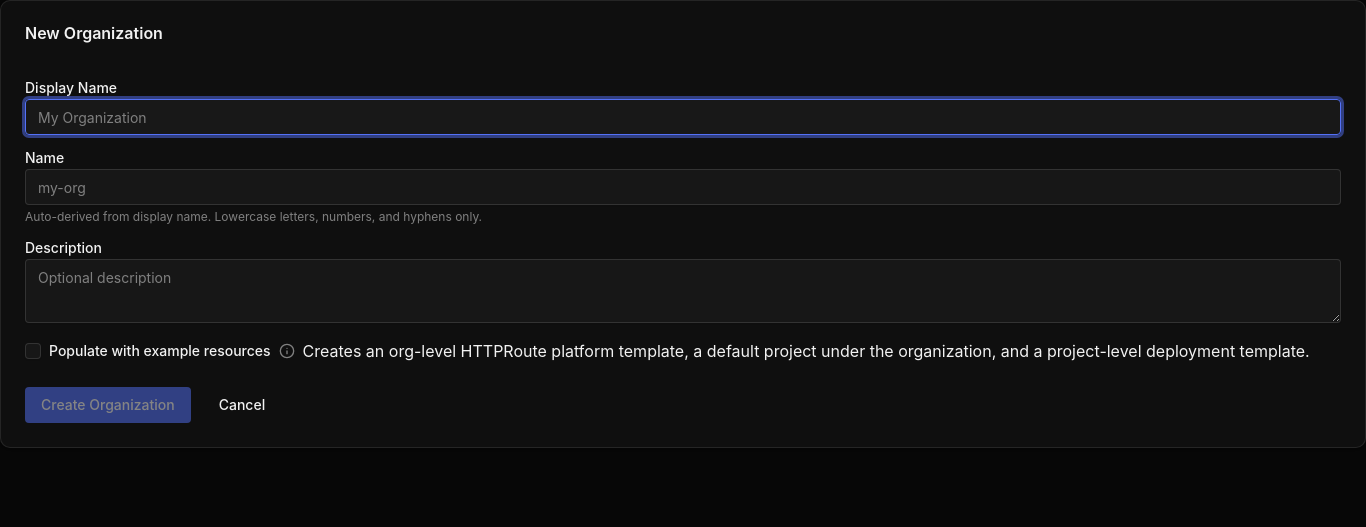
OrganizationNewPage › shows error message when creation fails
Type "My Org" into the field labelled "Display Name" at [683, 117], box [25,99,1341,135]
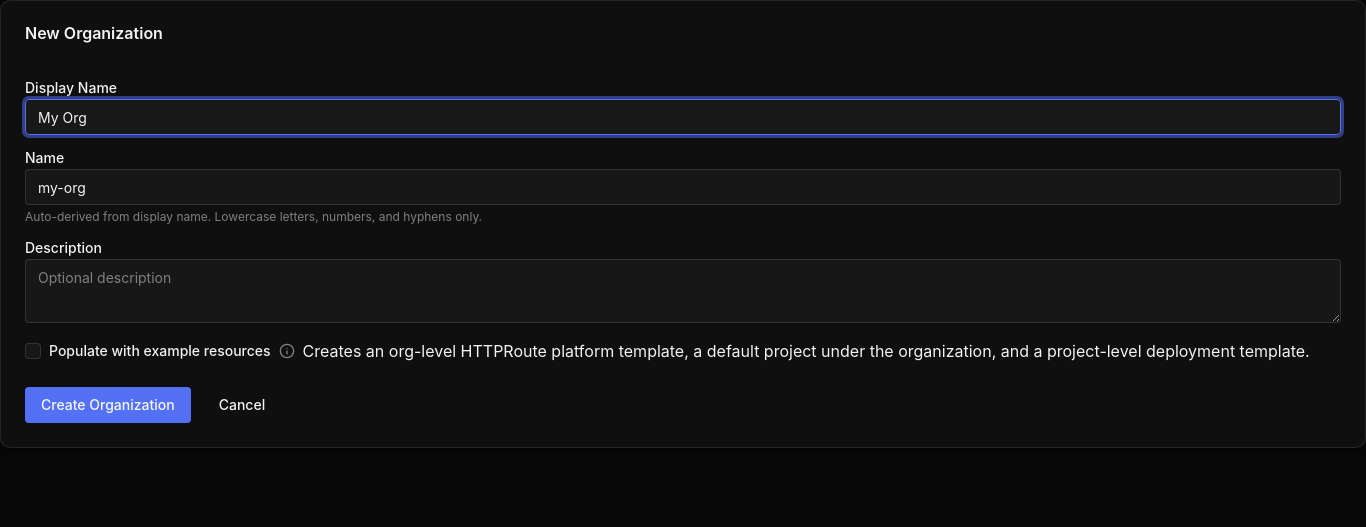
Click the button "Create Organization" at [108, 405], box [25,387,191,423]
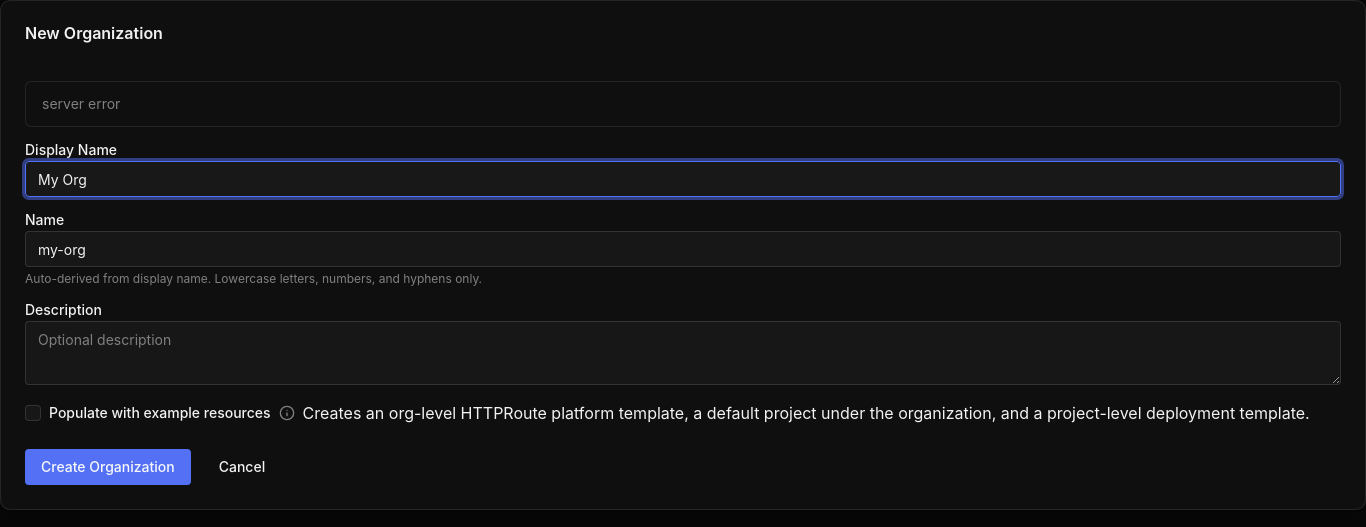
Expected: the text "server error" is shown, [42,95,120,112]
